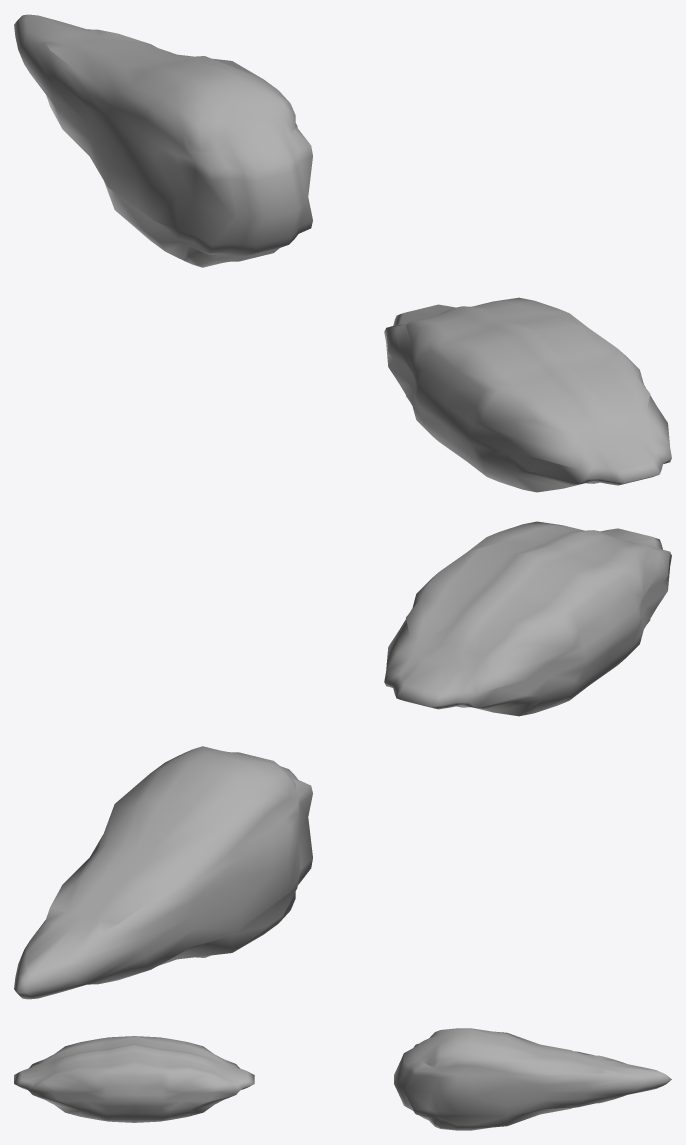
Rendered from Clouds1.fbx.
3 views of the same model, one above another, from view 1: azimuth 30°, elevation 25°; view 2: azimuth 150°, elevation 25°; view 3: azimuth 270°, elevation 25° (orthographic). The views are drawn at different scales.
Visible parts, largest first — view 1: Cube.001, Cube; view 2: Cube.001, Cube; view 3: Cube.001, Cube.
Boxes of the visible parts, x1,y1,x2,y2 form: Cube.001: (14,14,312,267); Cube: (384,297,671,492); Cube.001: (14,746,312,999); Cube: (384,521,671,716); Cube.001: (394,1028,671,1130); Cube: (14,1036,254,1122).
Size of the model in its own units: 249 by 240 by 1576.
